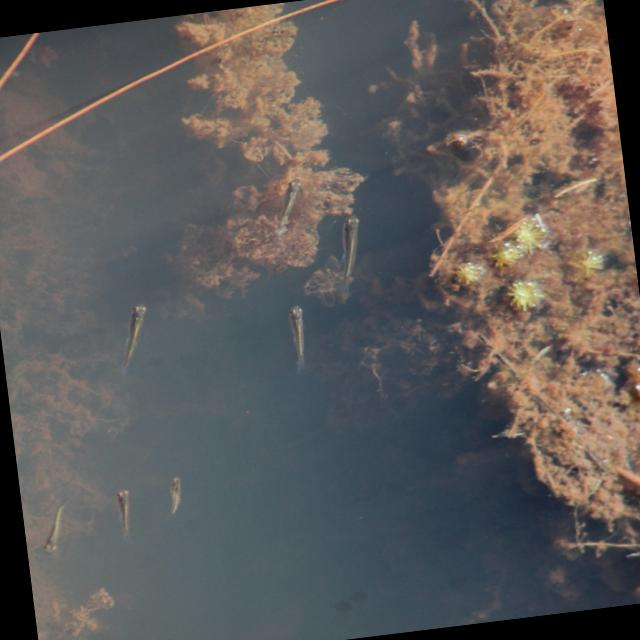Sivrisinek Baligi: (97, 303, 164, 370), (323, 208, 369, 278), (32, 490, 79, 555), (274, 303, 314, 376), (263, 178, 312, 235), (106, 481, 144, 551), (152, 469, 202, 516)
